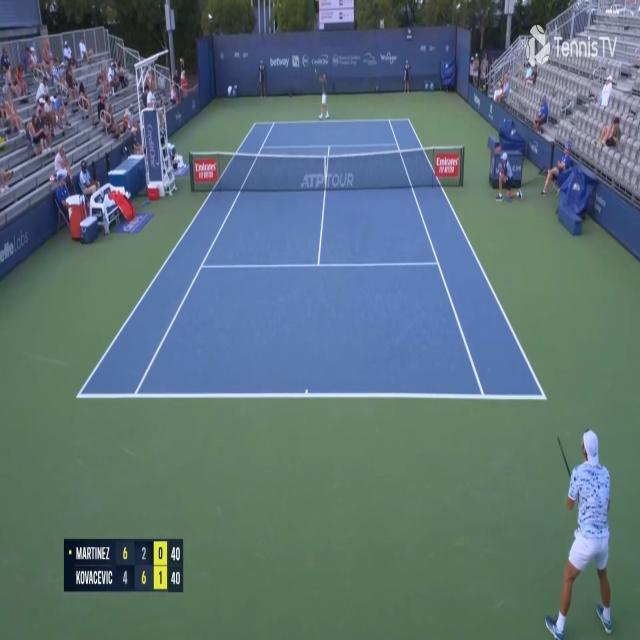tennis-player: (544, 422, 616, 639), (314, 66, 332, 122)
